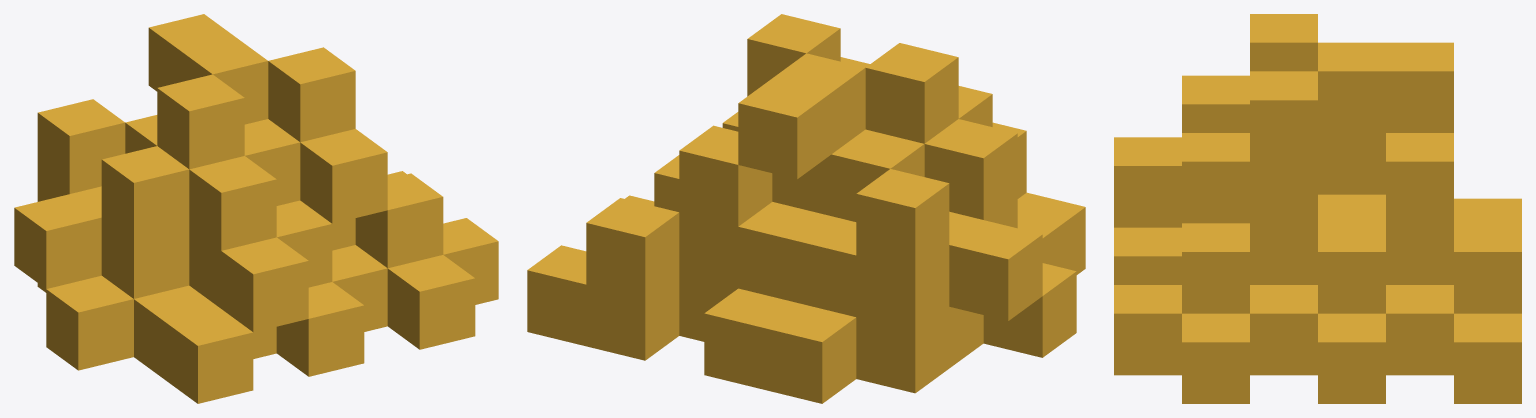
File: gold_dust.dae
3 renders of one model, left to right at view 1: azimuth 30°, elevation 25°; view 2: azimuth 150°, elevation 25°; view 3: azimuth 270°, elevation 25°, orthographic. The views are drawn at different scales.
Parts seen in each view (by area): view 1: gold_dust; view 2: gold_dust; view 3: gold_dust.
Boxes of the visible parts, x1,y1,x2,y2 form: gold_dust: (14,14,498,403); gold_dust: (527,14,1085,403); gold_dust: (1114,14,1521,403).
Bounding box in the file's own units: 0.7 × 0.4 × 0.6.
1 material, 1 textured.
